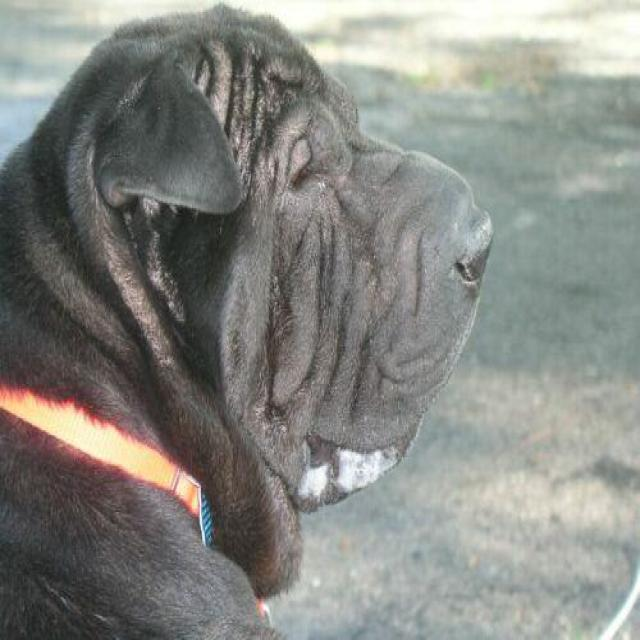Dogs: (0, 0, 494, 638)
